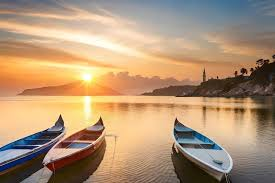boat: (1, 114, 67, 179), (171, 117, 234, 183), (42, 116, 107, 176)
